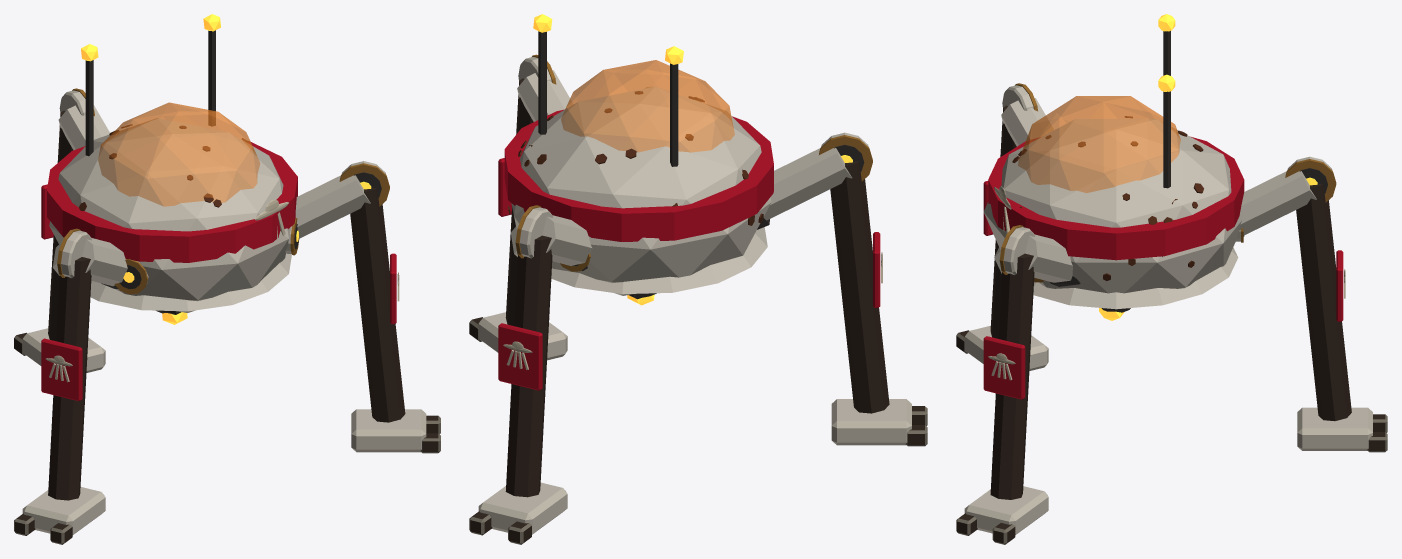
File: s_grey_tripod.glb
3 views of the same model, side by side, from view 1: azimuth 30°, elevation 25°; view 2: azimuth 150°, elevation 25°; view 3: azimuth 270°, elevation 25° (orthographic). The views are drawn at different scales.
Parts seen in each view (by area): view 1: s_grey_tripod; view 2: s_grey_tripod; view 3: s_grey_tripod.
Boxes of the visible parts, x1,y1,x2,y2 form: s_grey_tripod: (14,14,440,544); s_grey_tripod: (469,14,927,544); s_grey_tripod: (956,14,1387,544).
Size of the model in its own units: 5.91 by 5.22 by 5.13.
